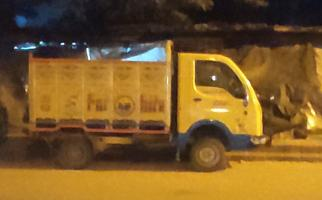Truck: (24, 38, 265, 168)
